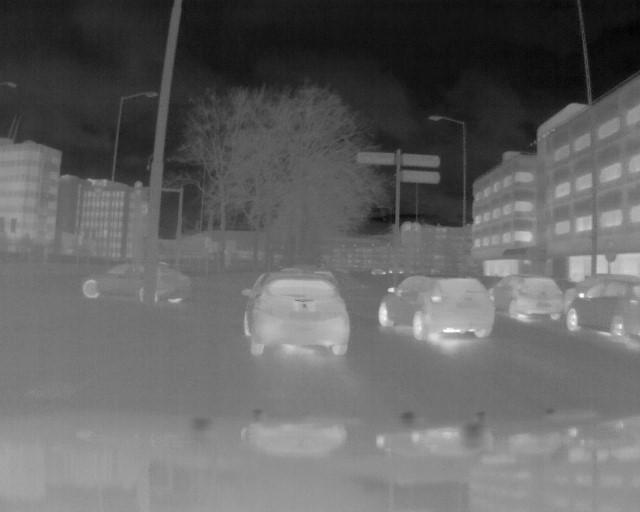car: (240, 269, 354, 357), (376, 273, 496, 344), (80, 259, 195, 307), (566, 281, 640, 340), (489, 271, 563, 322)
